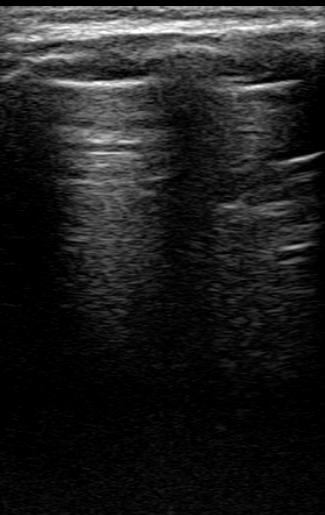irrelevant: (1, 1, 325, 37)
